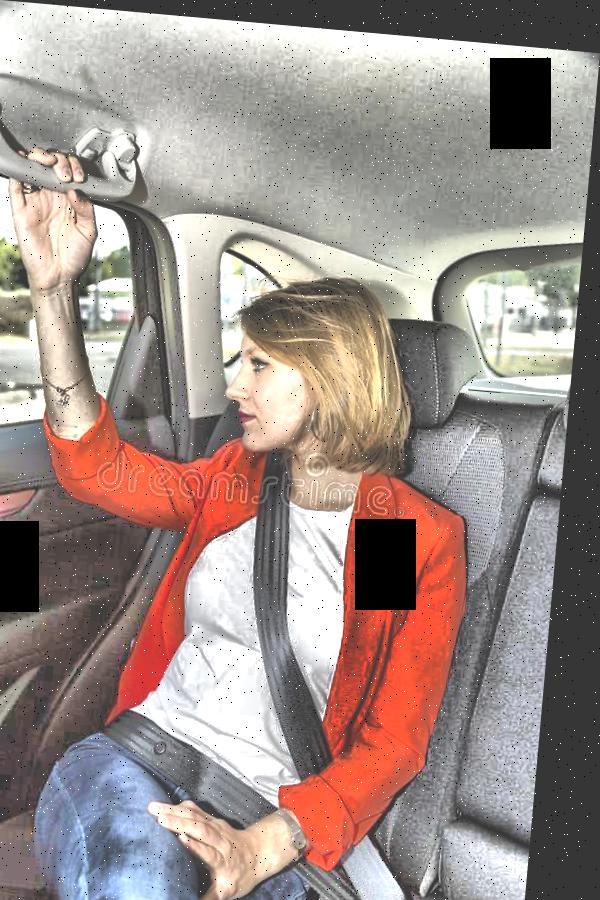seatbelt: (99, 386, 488, 900)
